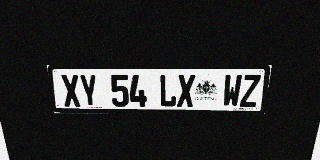4: (129, 74, 147, 107)
5: (110, 74, 129, 107)
L: (159, 74, 177, 107)
W: (222, 74, 243, 107)
X: (60, 74, 82, 107), (177, 74, 195, 107)
Y: (78, 74, 99, 107)
Z: (239, 74, 261, 107)
